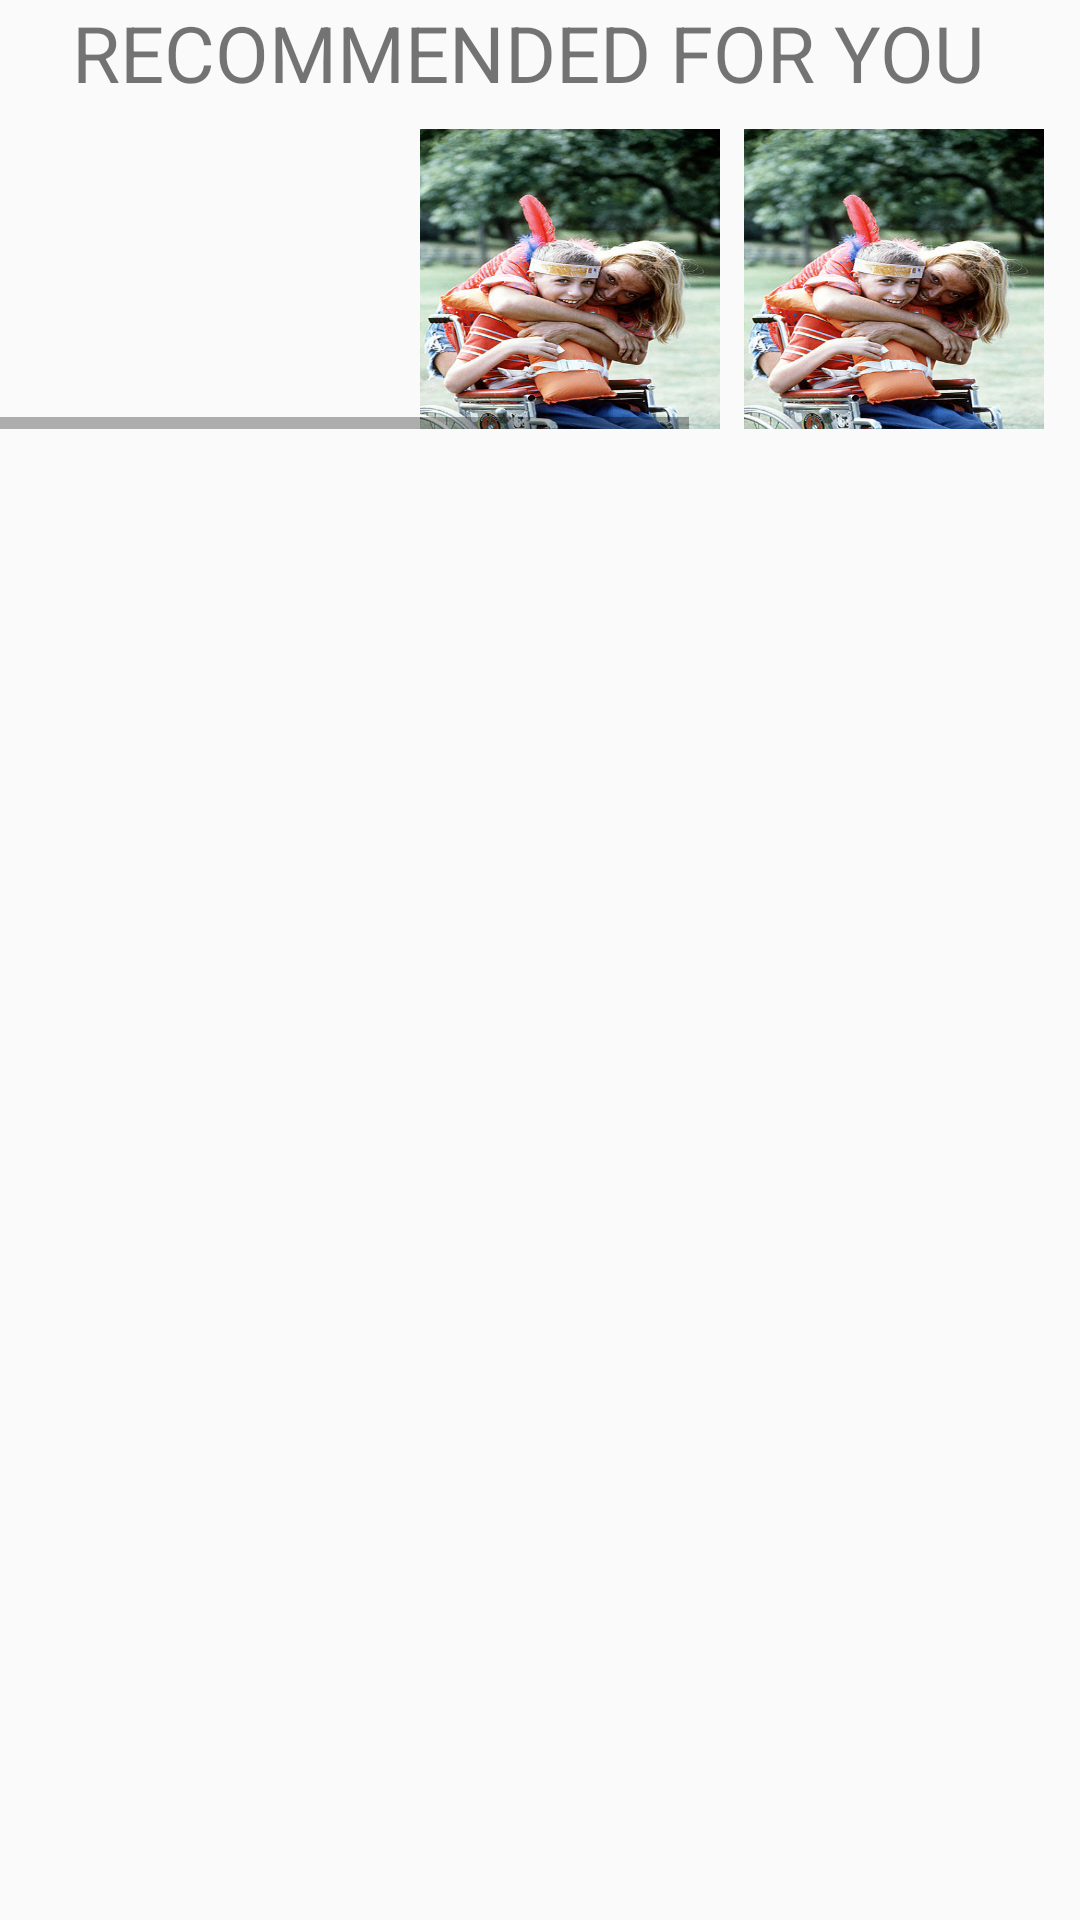

Screen size 1080px×1920px. Icon name, then its box in pixels as region(x1, y1, x2, y2):
family: region(420, 129, 720, 429), region(744, 129, 1044, 429)
